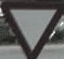Give way: (0, 1, 58, 55)
